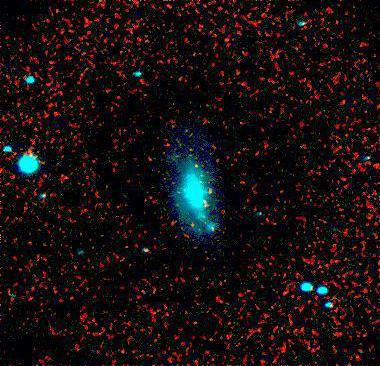star: (178, 154, 208, 184)
